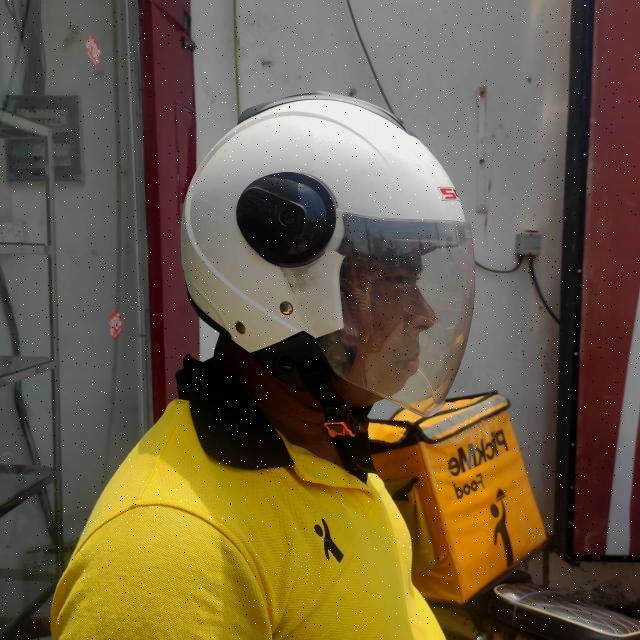helmet: (178, 96, 479, 473)
